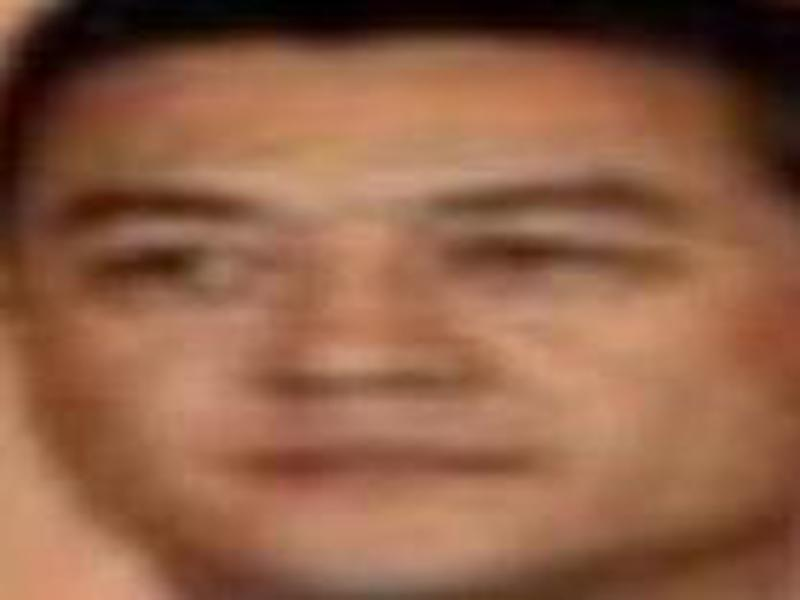without_mask: (44, 63, 778, 600)
